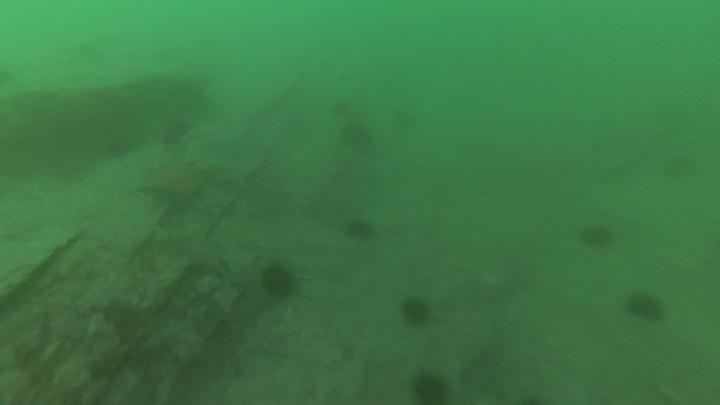echinus: (258, 260, 302, 300), (621, 287, 667, 325), (409, 371, 456, 405), (578, 221, 617, 253), (339, 120, 374, 154), (398, 294, 433, 327), (157, 116, 193, 148), (342, 216, 376, 244), (101, 134, 132, 160), (328, 97, 353, 121)
starfish: (135, 156, 215, 222), (180, 247, 235, 283)
